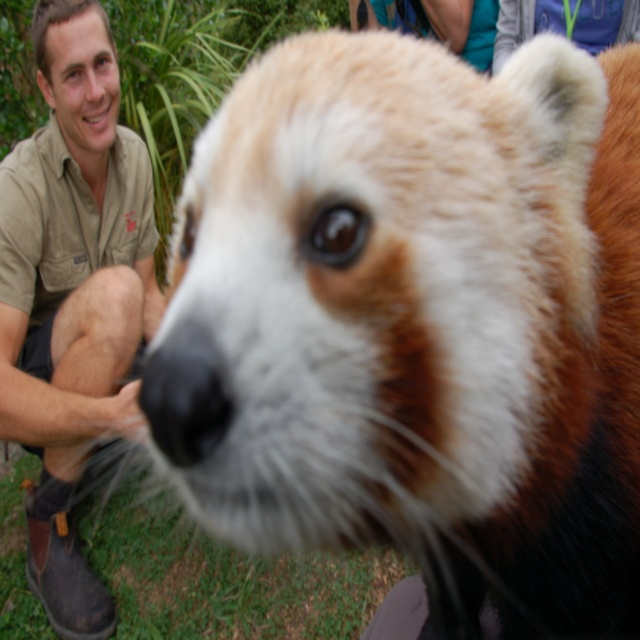Red panda: (21, 29, 640, 639)
